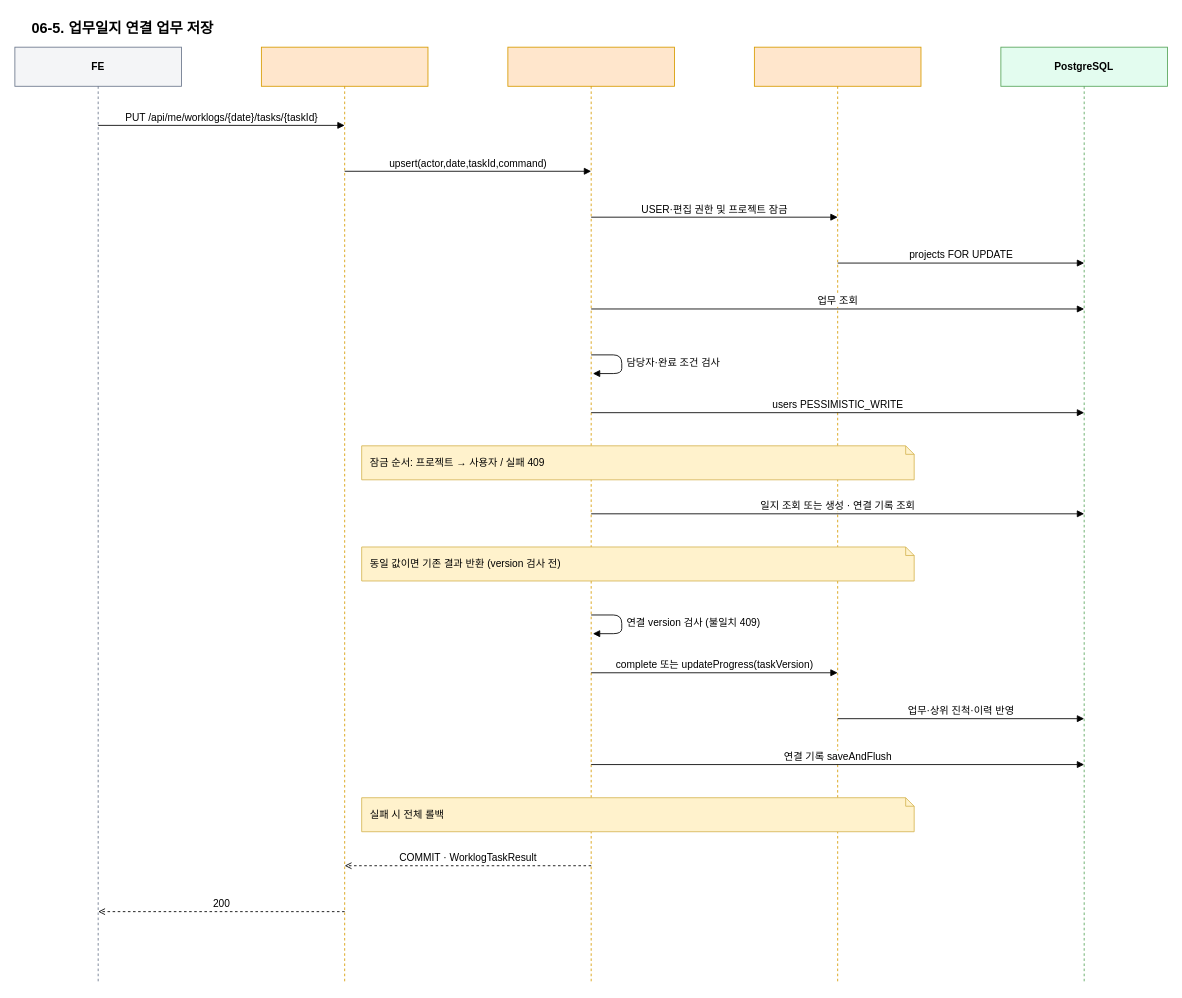
Image size: 1182x998. Some labels were removed from this diagram. The box of each missing label's shape, as (x1, y1, x2, y2) in pixels:
WBS Policy / TaskDetailService: (754, 46, 921, 983)
WorklogTaskController: (261, 46, 428, 983)
WorklogTaskService: (507, 46, 674, 983)
